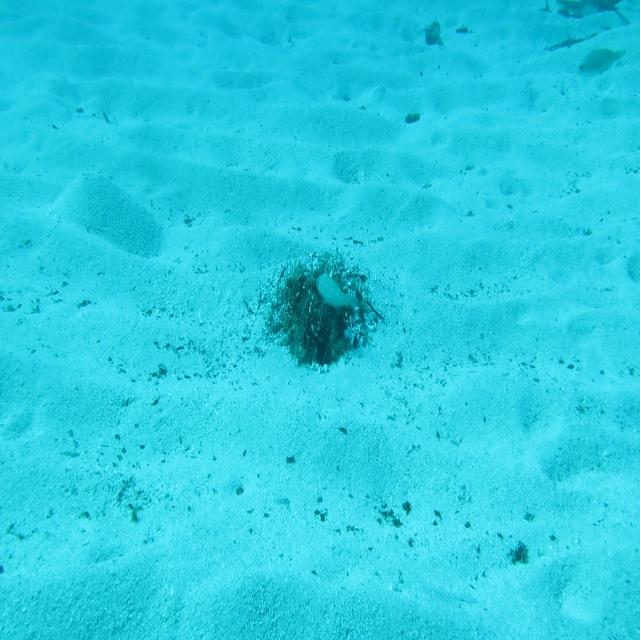LAND: (310, 266, 362, 320)
female: (576, 46, 626, 84)
nest: (264, 253, 373, 360)
